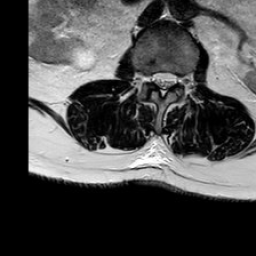CCS_normal: (159, 61, 168, 104)
LFS_normal: (176, 62, 183, 91)
LLS_normal: (168, 61, 176, 92)
RFS_normal: (142, 64, 151, 90)
RLS_normal: (151, 64, 159, 91)
